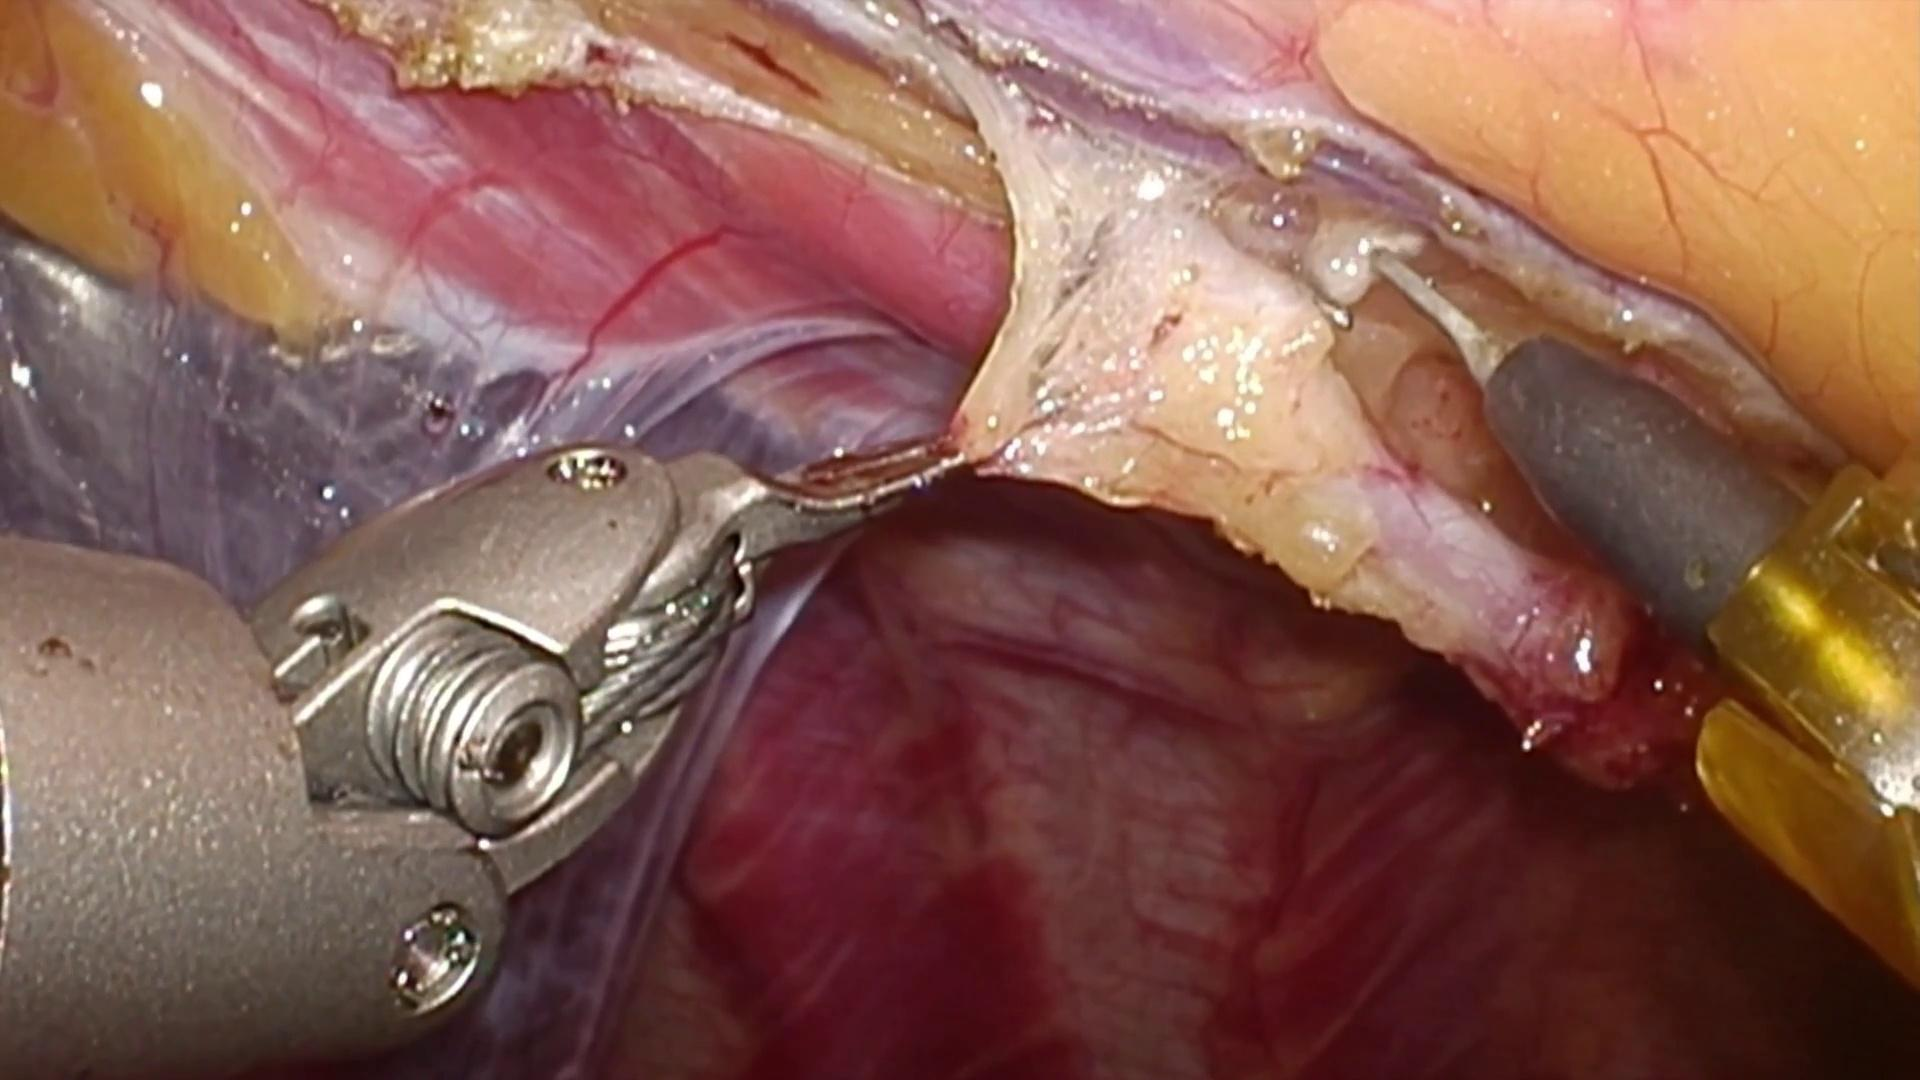Cautery_Spatula: (1374, 243, 1808, 650)
Debakey: (680, 406, 965, 567)
